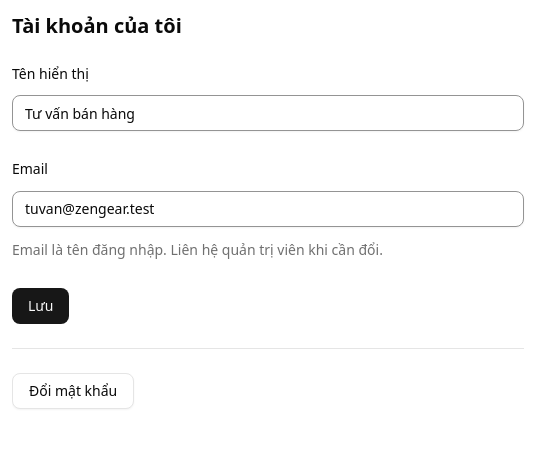
it: "Lưu" (PATCH /me with If-Match) › 400: shows the API's text under the field and keeps the name
Replace the text in the field labelled "Tên hiển thị" with "Tên mới". click: (268, 113)
box: [12,95,524,131]
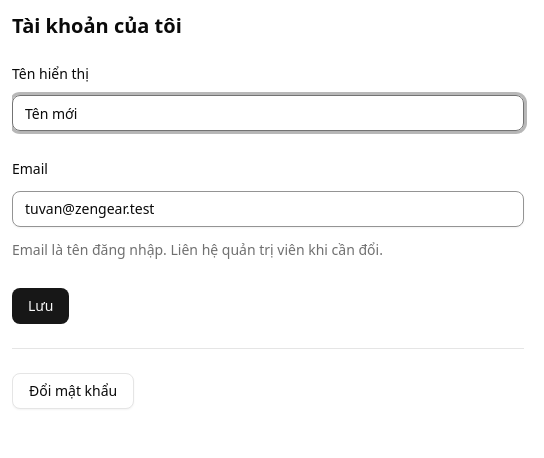
Click the button "Lưu". click: (41, 306)
box: [12,288,69,324]
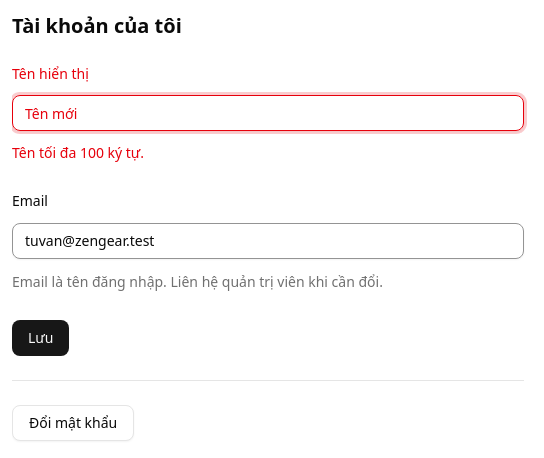
Now the text "Tên tối đa 100 ký tự." is shown, box [12,143,144,162]
